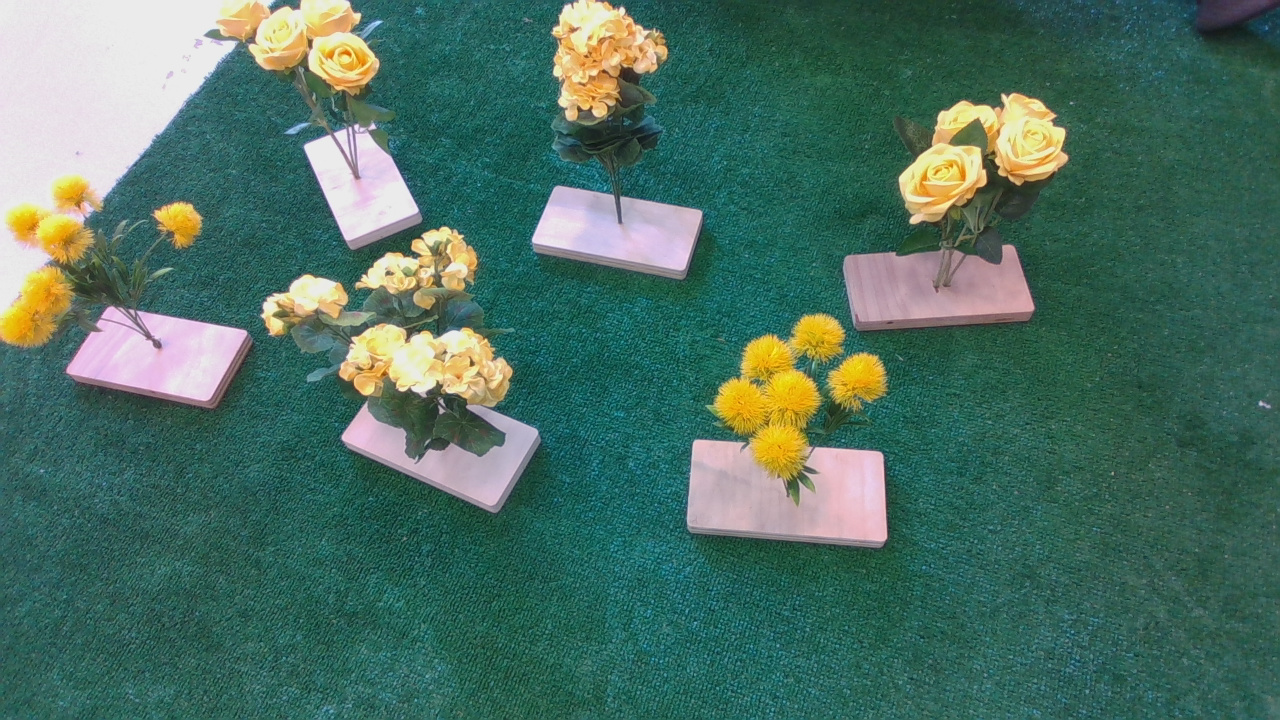dandelion: (6, 175, 224, 357), (697, 320, 902, 494)
geranium: (258, 230, 547, 448), (544, 3, 689, 179)
rose: (880, 92, 1081, 260), (206, 3, 410, 139)
